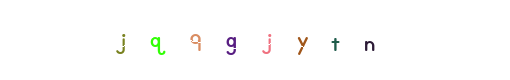9: (187, 0, 267, 80)
G: (196, 0, 276, 80)
J: (117, 0, 197, 80), (199, 0, 279, 80)
N: (316, 0, 396, 80)
Q: (184, 0, 264, 80)
T: (215, 0, 295, 80)
Y: (199, 0, 279, 80)
